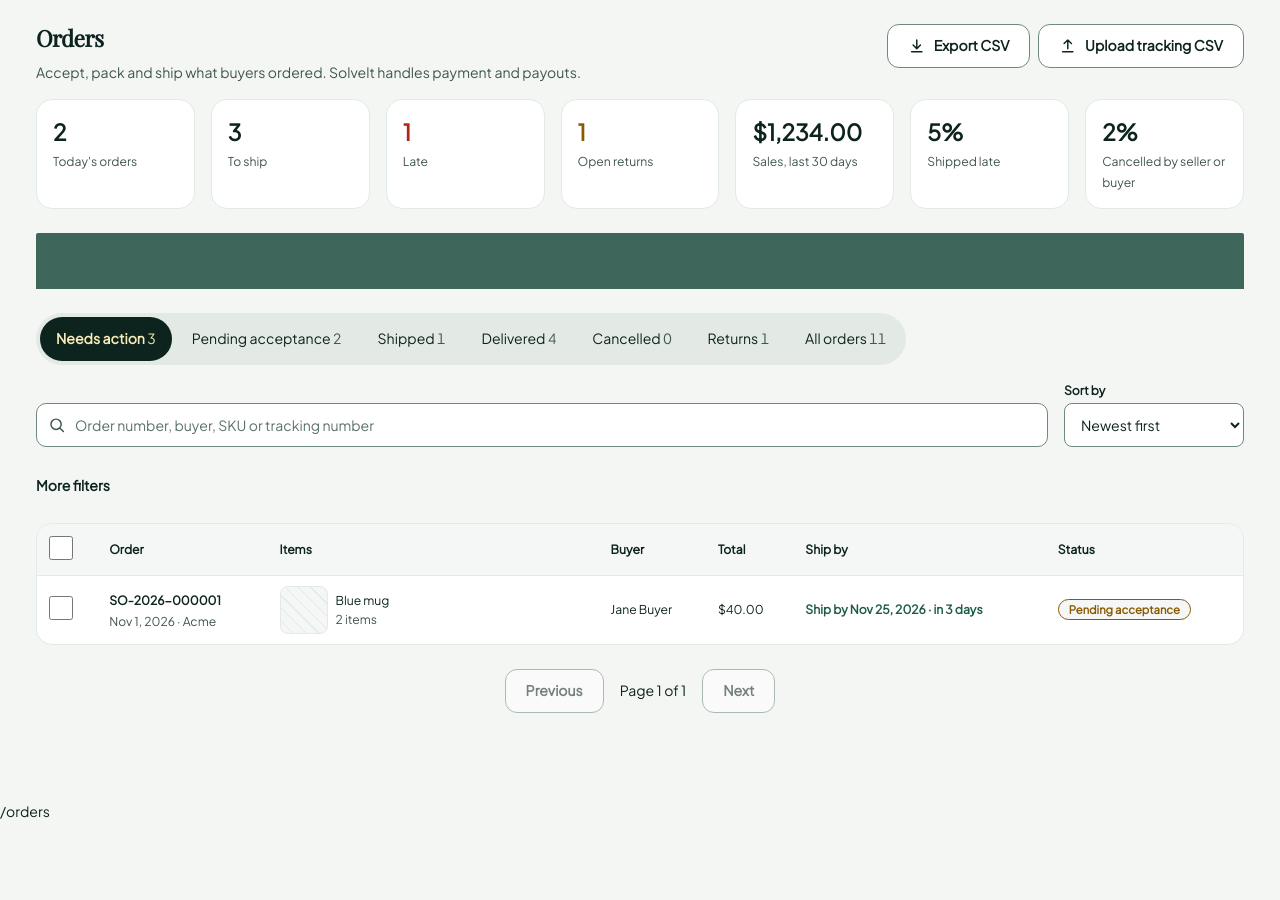
Test: orders list › prints packing slips for the selected orders (no external resources, a print button)
The width and height of the screenshot is (1280, 900).
Click the checkbox named "Select order SO-2026-000001".
click(61, 608)  # box 49,596 -> 73,620
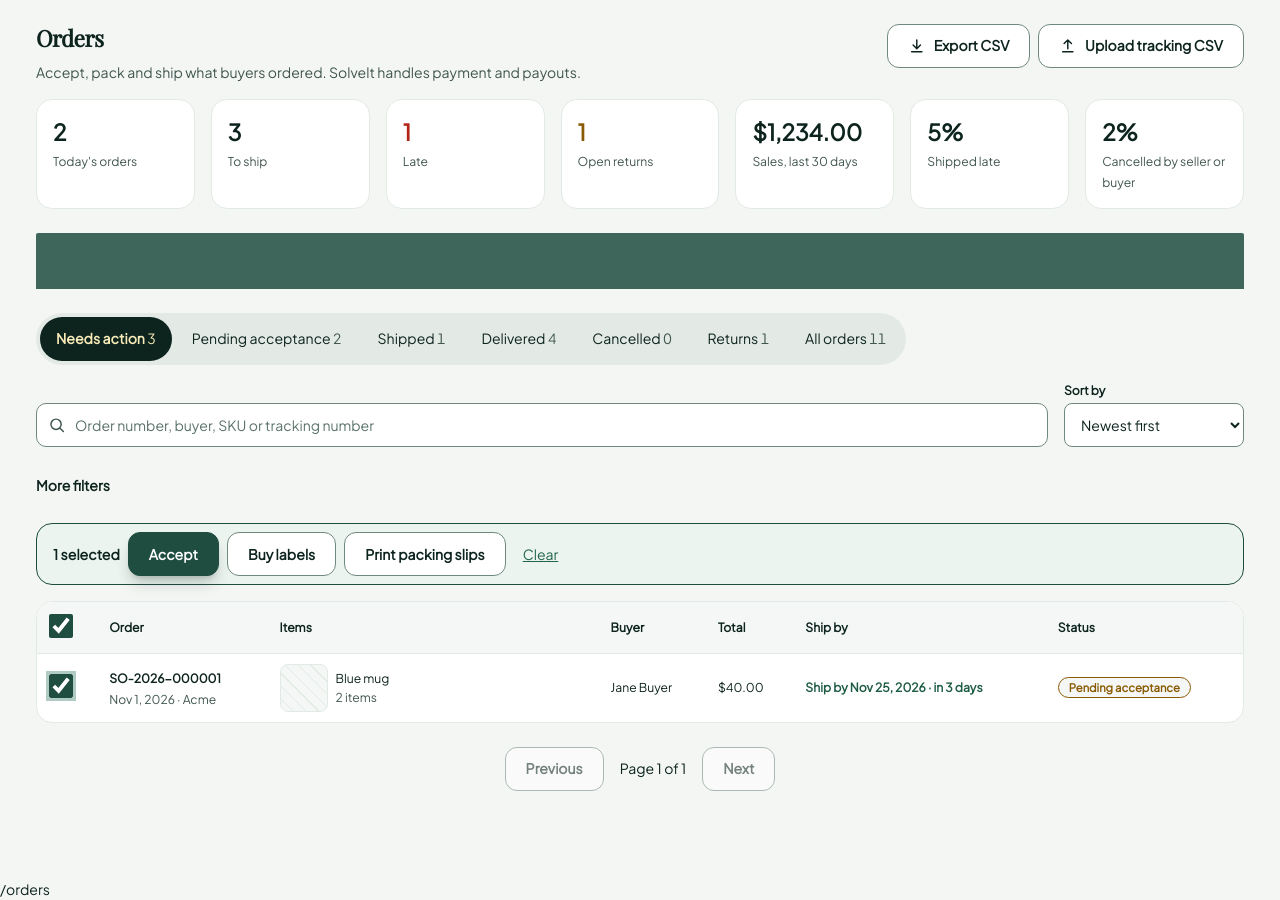
Click the button "Print packing slips".
click(425, 554)  # box 344,532 -> 506,576
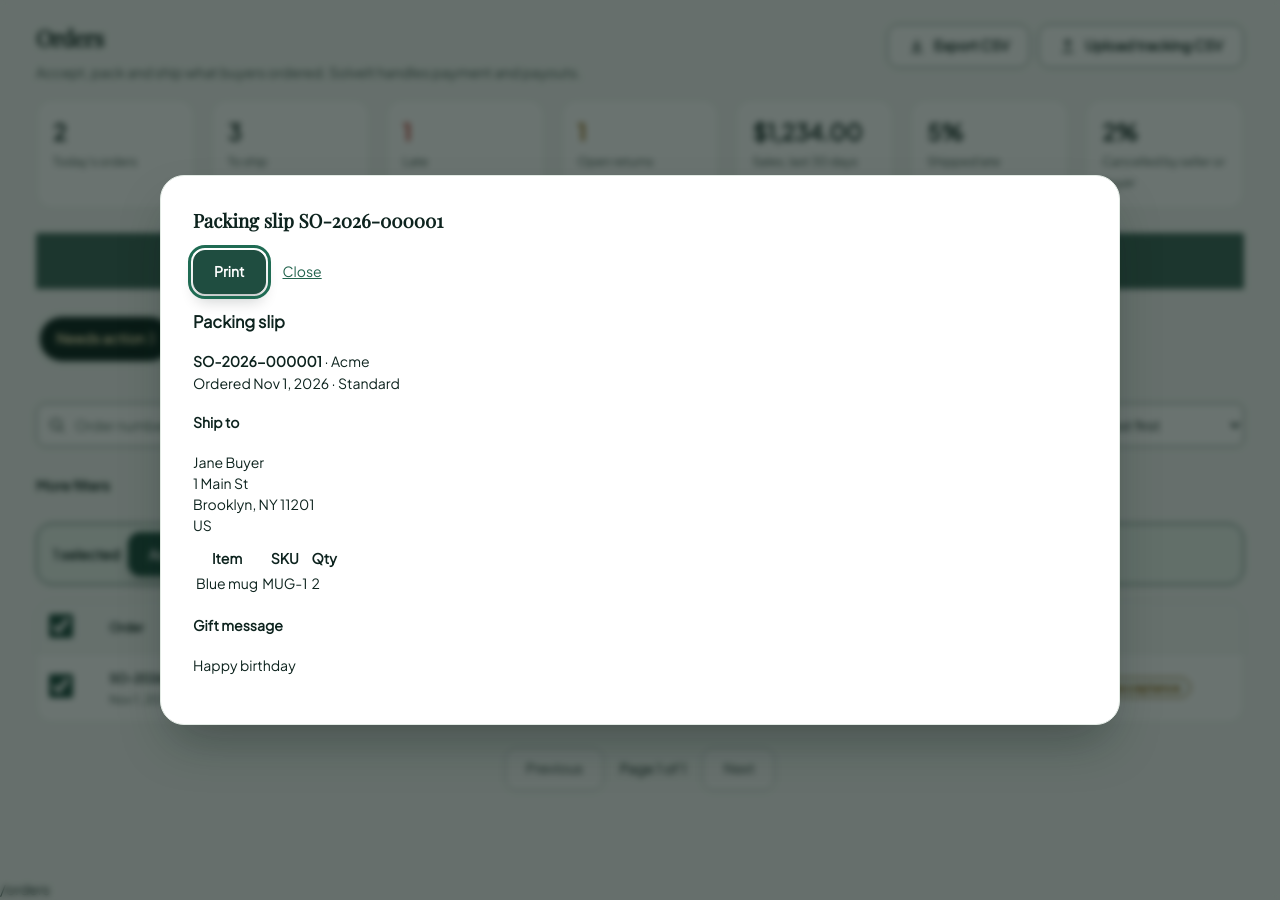
Now the text "Happy birthday" is shown, box 193,656 -> 296,674
Now the button "Print" is shown, box 193,250 -> 266,294
